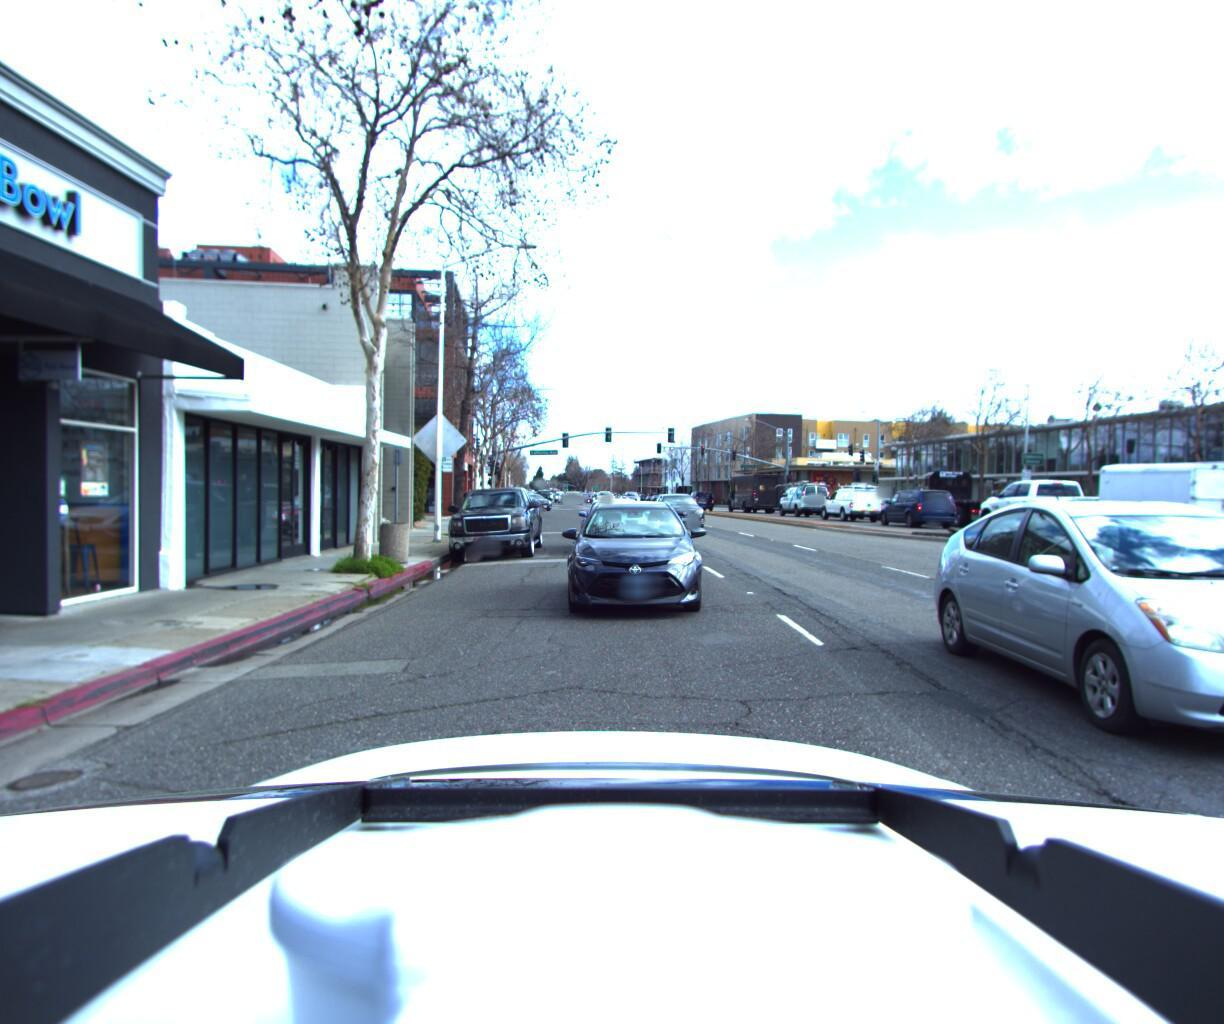car: (932, 490, 1224, 828), (556, 499, 710, 638), (964, 479, 1133, 550), (443, 485, 546, 569), (1141, 492, 1224, 555), (584, 497, 654, 561), (878, 490, 965, 533), (822, 484, 889, 526), (656, 493, 713, 534), (777, 484, 833, 520), (683, 491, 719, 513)
other_vehicle: (1087, 459, 1224, 559)
truck: (896, 470, 1035, 533), (724, 477, 789, 518)
